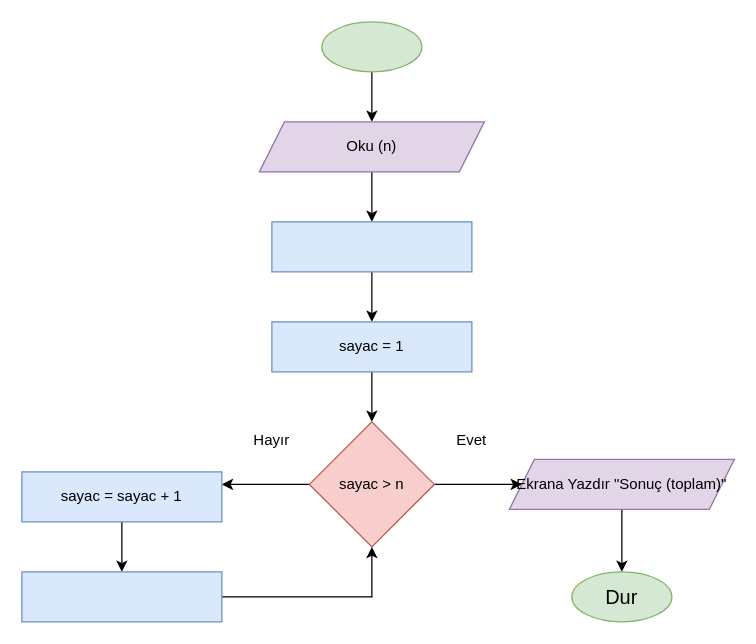
Some shapes in this 756 by 644 pixel diagram are drawn without their labels. Each missing label, with the centre of its shape:
Başla: (x=371, y=46)
toplam = 0: (x=371, y=246)
toplam = toplam + sayac: (x=121, y=596)
